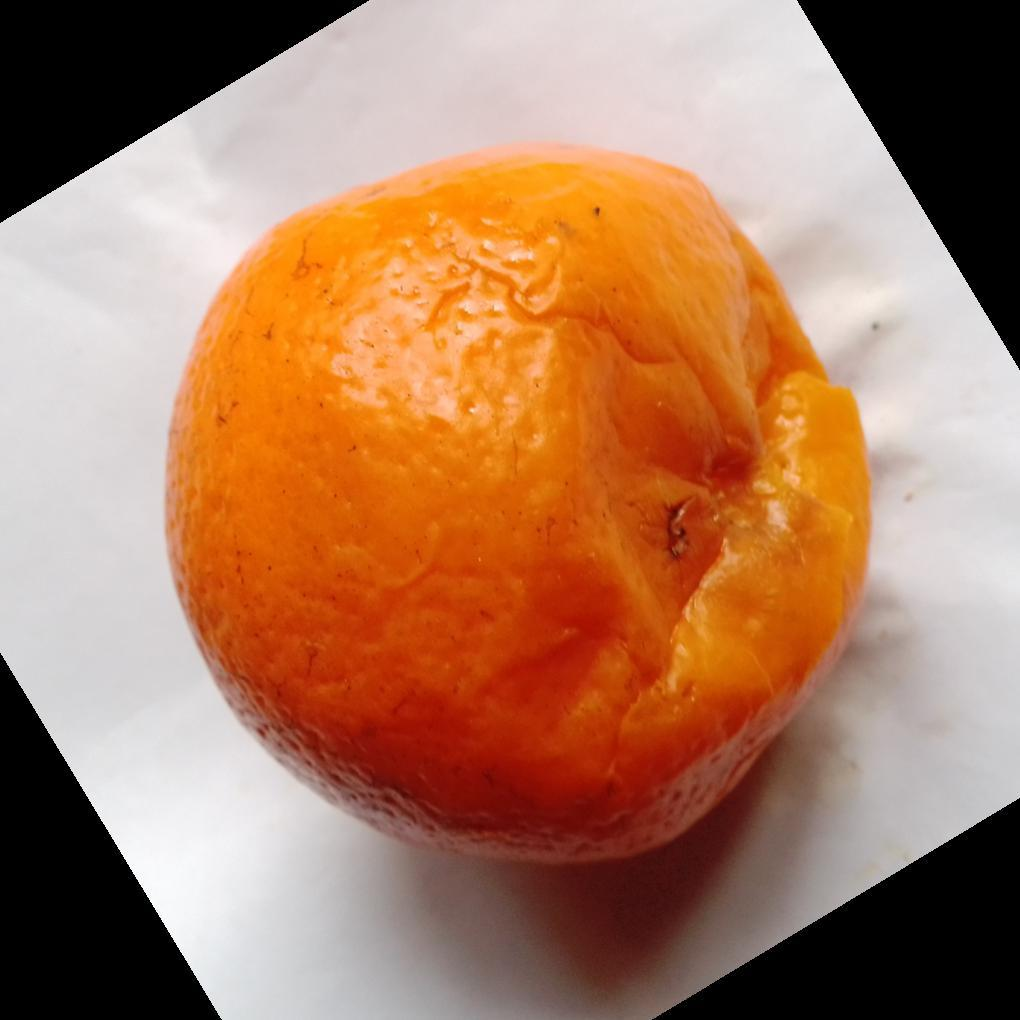FreshOrange: (161, 143, 874, 869)
